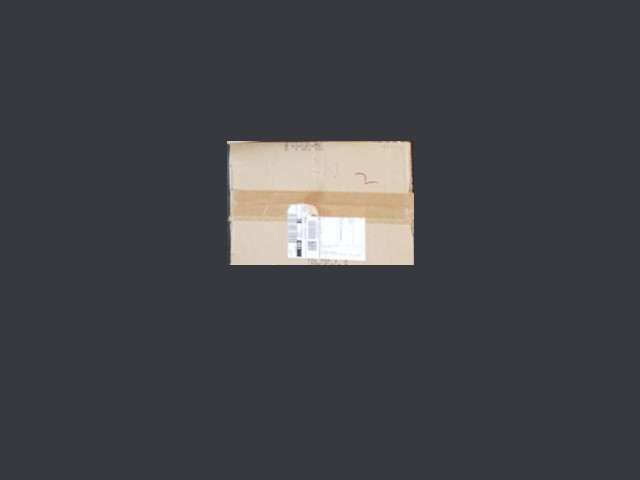cardboard: (227, 141, 412, 264)
